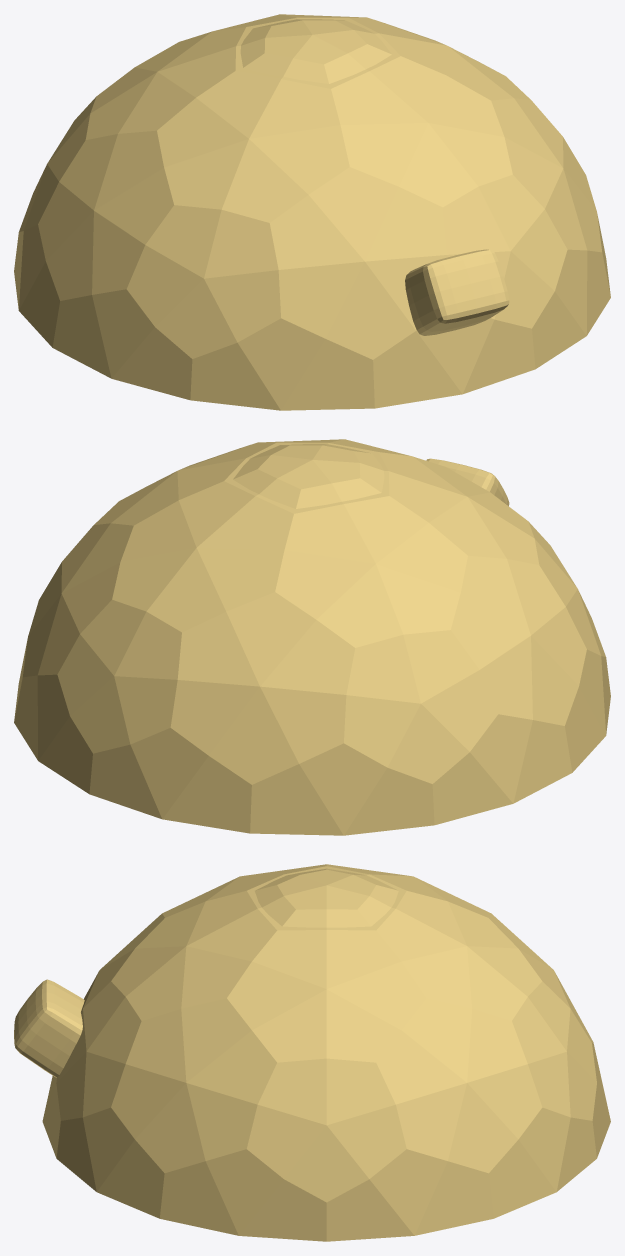
File: armor_knee.glb
3 renders of one model, top to bottom at view 1: azimuth 30°, elevation 25°; view 2: azimuth 150°, elevation 25°; view 3: azimuth 270°, elevation 25°, orthographic. The views are drawn at different scales.
Parts seen in each view (by area): view 1: knee; view 2: knee; view 3: knee.
Part boxes in pixels (box(x1,y1,x2,y2)): knee: box(14, 14, 610, 410); knee: box(14, 439, 610, 835); knee: box(14, 864, 610, 1241).
Bounding box in the file's own units: 0.1722 × 0.0855 × 0.1809.
